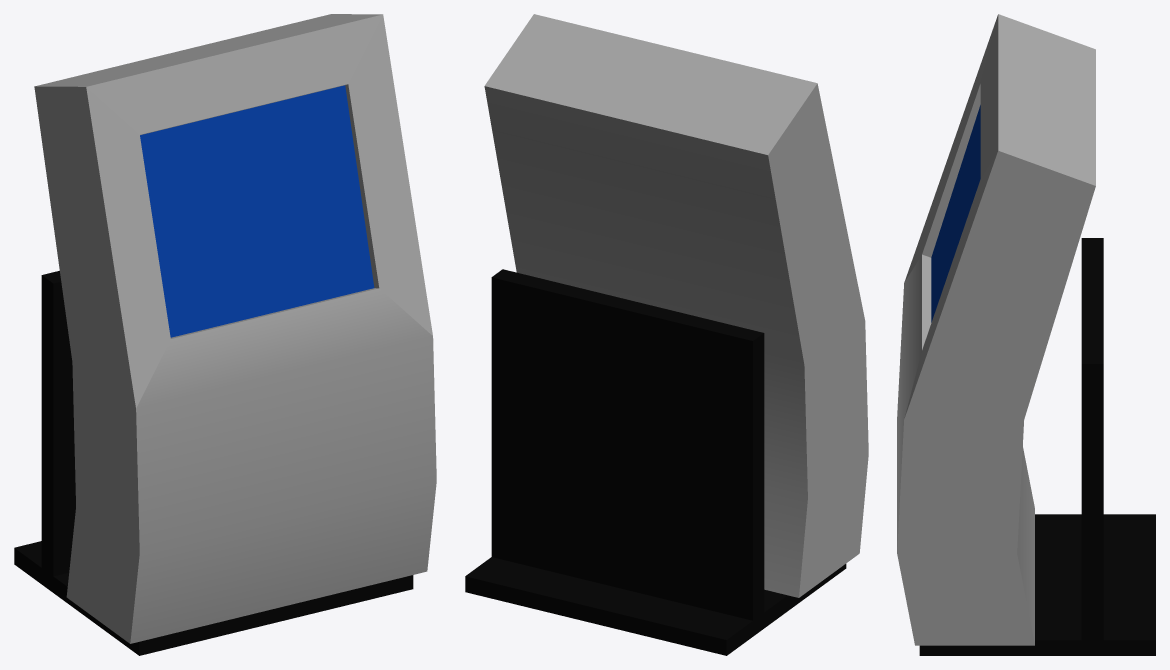
The model's file is infoTotem.fbx.
3 renders of one model, left to right at view 1: azimuth 30°, elevation 25°; view 2: azimuth 150°, elevation 25°; view 3: azimuth 270°, elevation 25°, orthographic. The views are drawn at different scales.
Visible parts, largest first — view 1: Totem; view 2: Totem; view 3: Totem.
Part boxes in pixels (x1,y1,x2,y2): Totem: (14,14,436,655); Totem: (465,14,868,655); Totem: (897,14,1155,655).
Size of the model in its own units: 1 by 1.74 by 0.7998.
